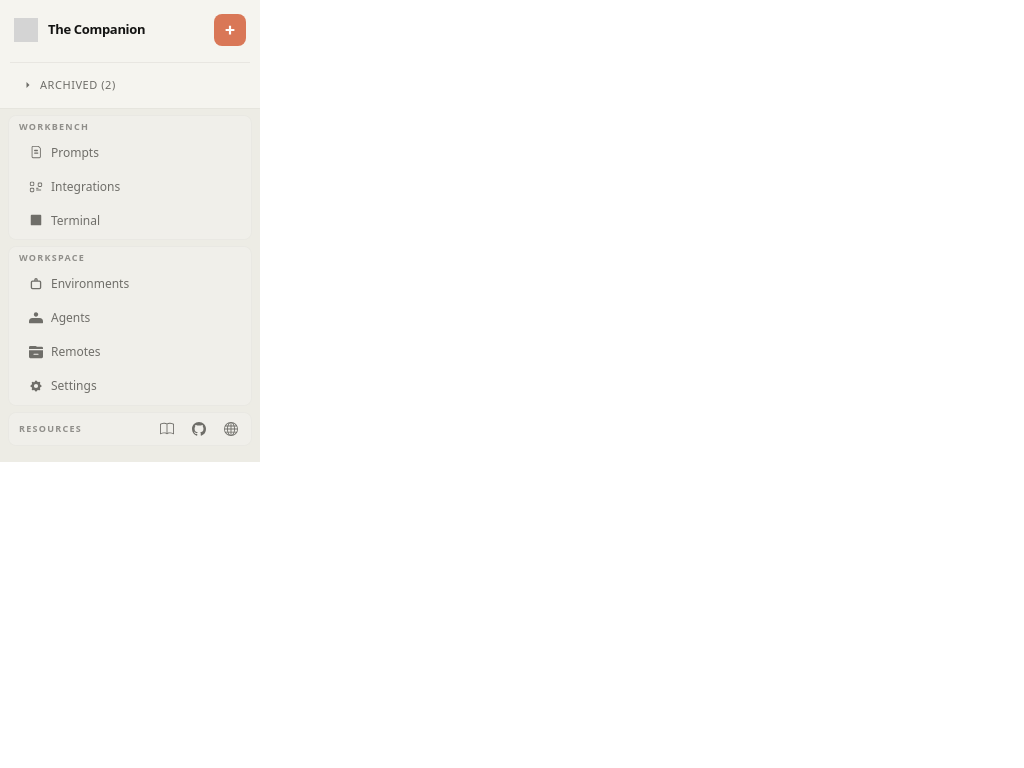
Scenario: Sidebar › cancelling delete-all closes the modal without deleting
Click the button "Archived (2)" at (130, 85), box [10,71,250,100]
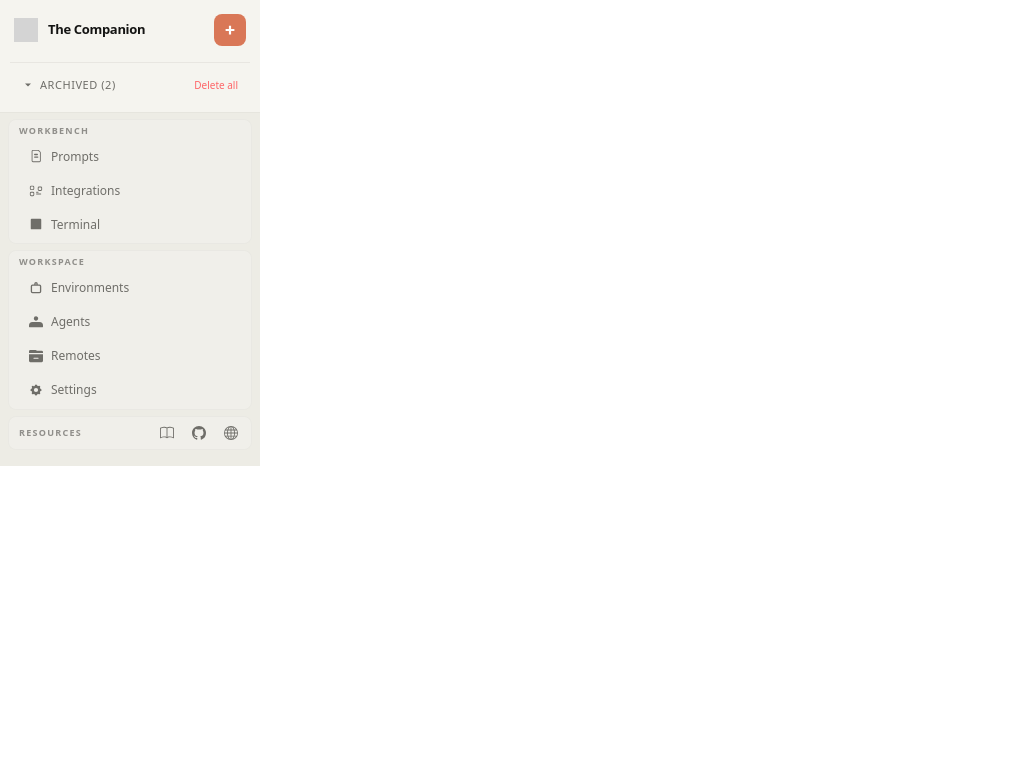
Click the button "Delete all" at (216, 85), box [186,74,246,97]
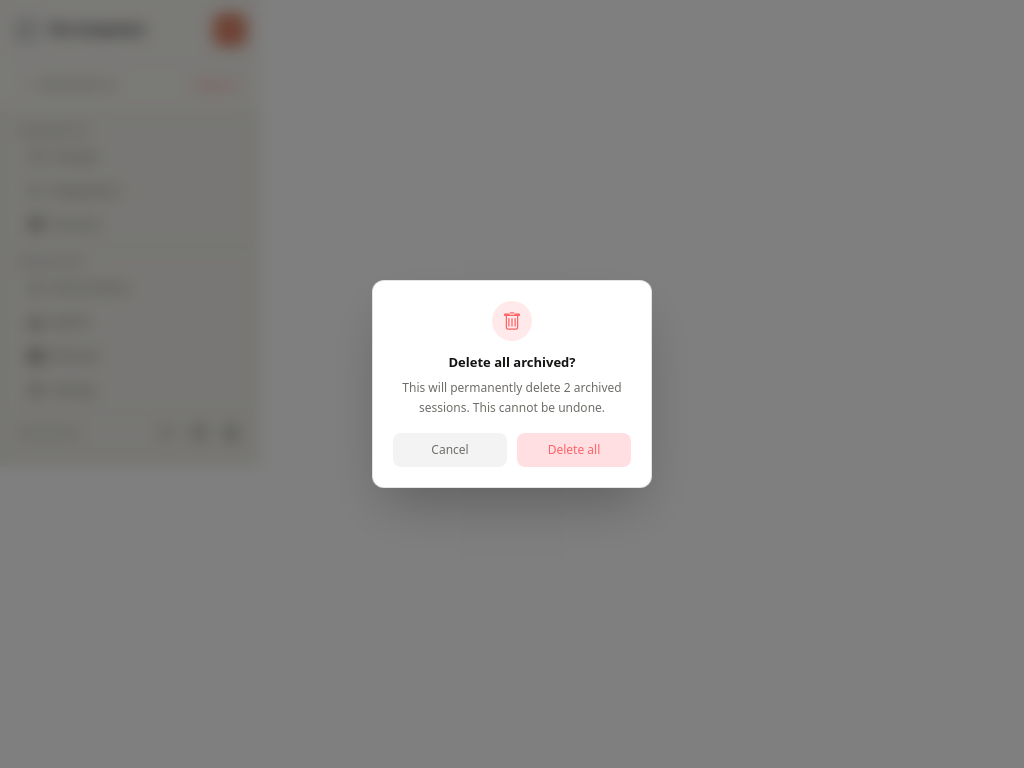
Click the button "Cancel" at (450, 450), box [393,433,507,467]
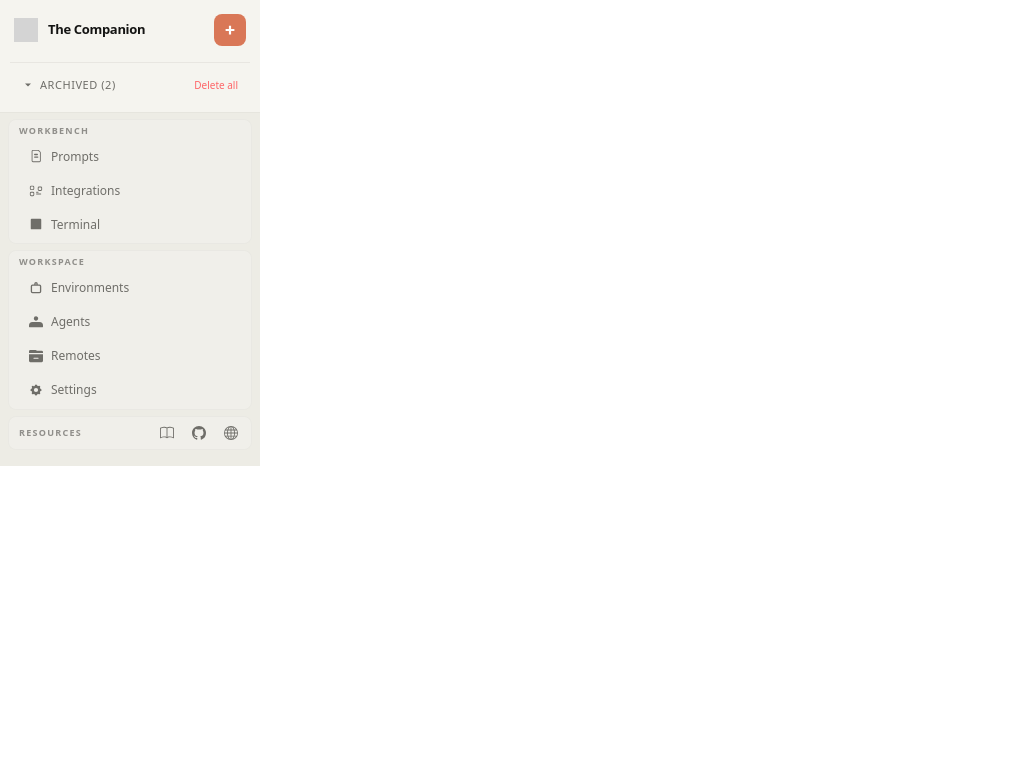
Expected: the heading "Delete all archived?" is gone
